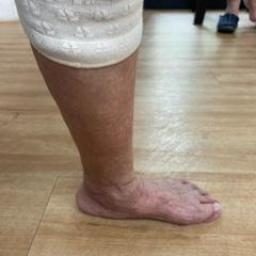Medial View -Left Foot-: (64, 145, 231, 238)
